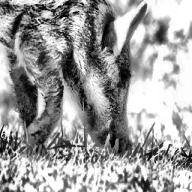boar: (0, 0, 148, 155)
